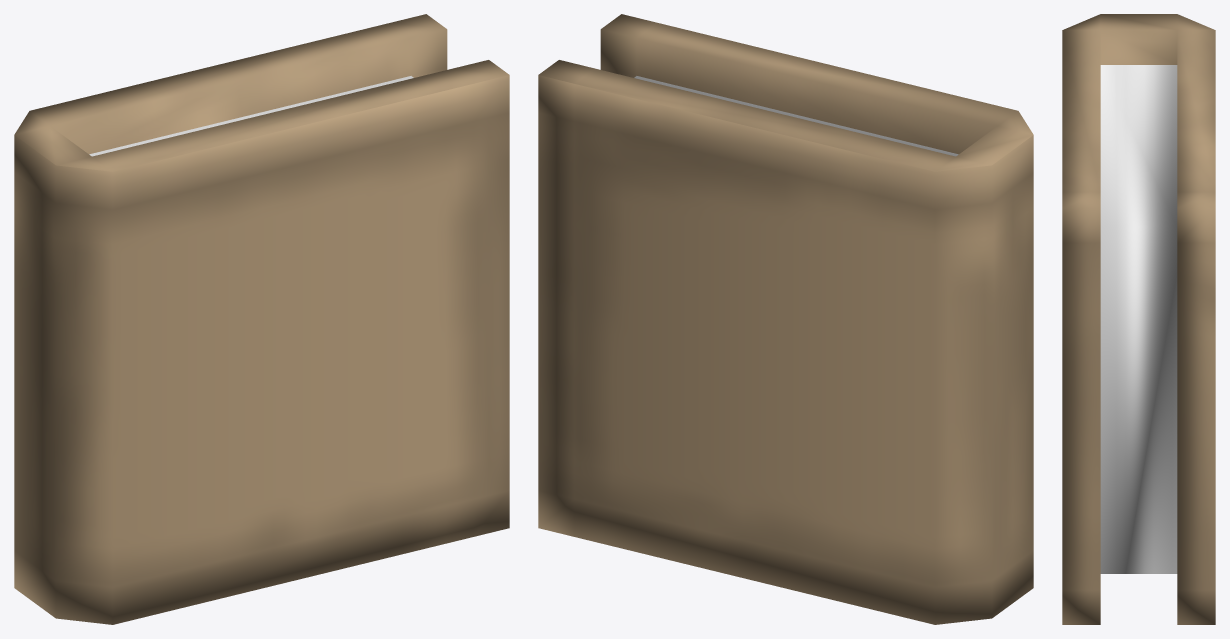
Rendered from book.glb.
3 views of the same model, side by side, from view 1: azimuth 30°, elevation 25°; view 2: azimuth 150°, elevation 25°; view 3: azimuth 270°, elevation 25° (orthographic). The views are drawn at different scales.
Visible parts, largest first — view 1: BookClosed; view 2: BookClosed; view 3: BookClosed.
Boxes of the visible parts, x1=… form: BookClosed: x1=14, y1=14, x2=509, y2=624; BookClosed: x1=538, y1=14, x2=1033, y2=624; BookClosed: x1=1062, y1=14, x2=1215, y2=624.
Bounding box in the file's own units: 1.2 × 1.2 × 0.4.
Materials: 1 (1 with a texture image).
